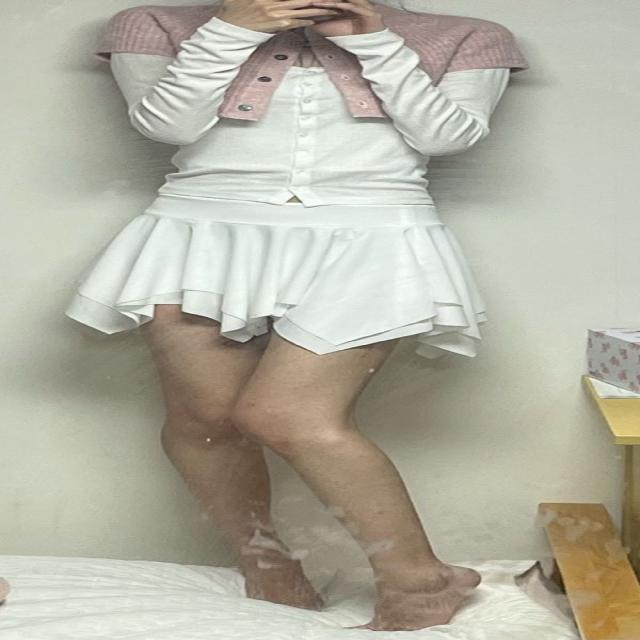longsleeve: (115, 1, 514, 205)
skirt: (54, 202, 486, 364)
